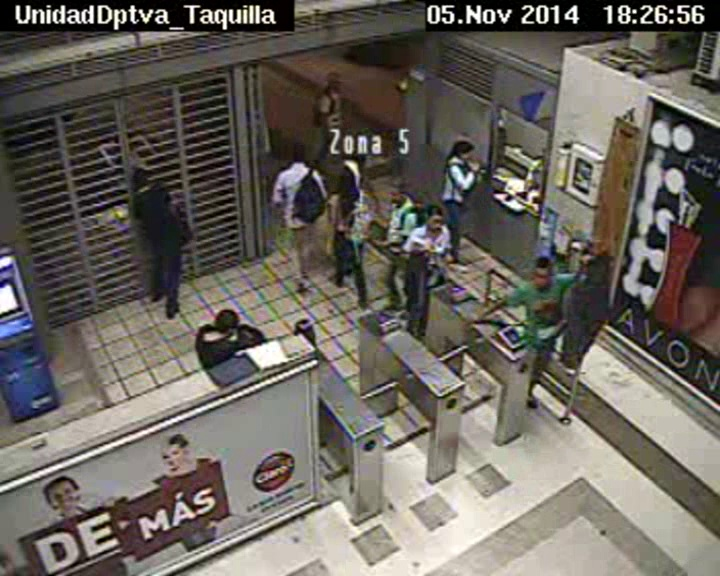person: (528, 255, 558, 290), (420, 203, 449, 237), (211, 307, 241, 339), (384, 179, 413, 210), (125, 165, 154, 190), (337, 162, 361, 190), (450, 140, 474, 165), (322, 72, 347, 96), (287, 142, 311, 164), (583, 261, 604, 284)
